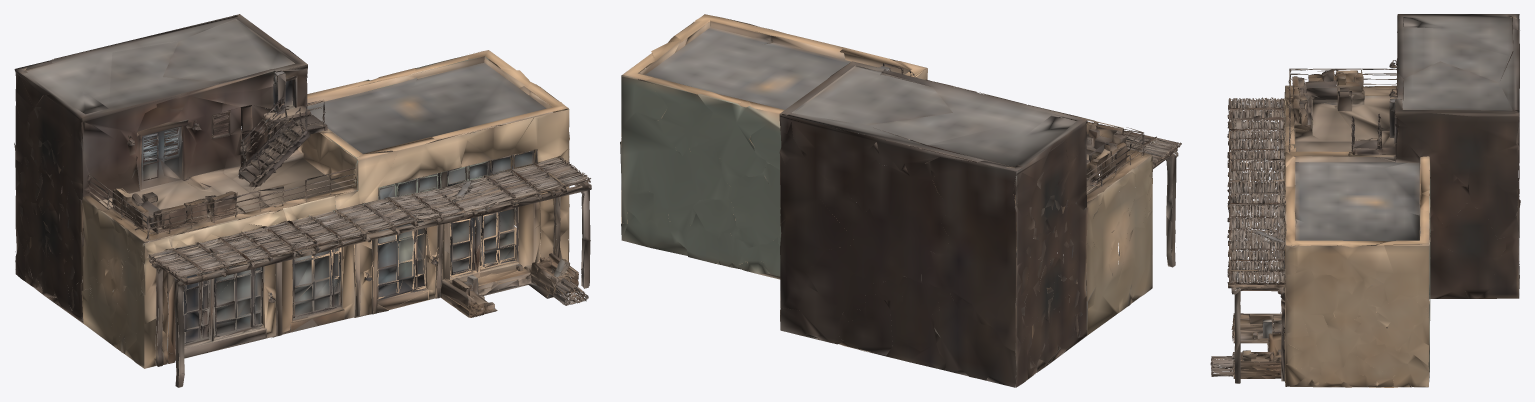
Rendered from clubhouse.glb.
3 renders of one model, left to right at view 1: azimuth 30°, elevation 25°; view 2: azimuth 150°, elevation 25°; view 3: azimuth 270°, elevation 25°, orthographic. The views are drawn at different scales.
Parts seen in each view (by area): view 1: LO.001; view 2: LO.001; view 3: LO.001.
Boxes of the visible parts, x1,y1,x2,y2 form: LO.001: [14, 14, 591, 387]; LO.001: [620, 14, 1181, 387]; LO.001: [1210, 14, 1520, 387].
Size of the model in its own units: 1.91 by 0.8864 by 1.33.
Materials: 1 (1 with a texture image).
